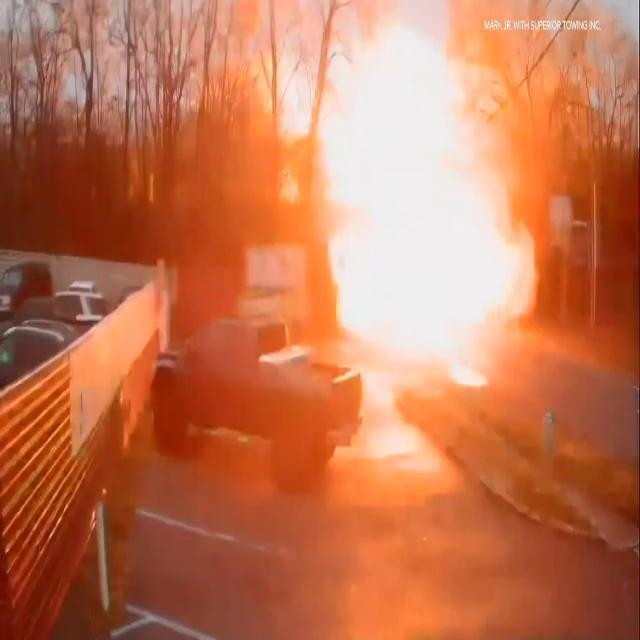Fire: (254, 1, 546, 371)
